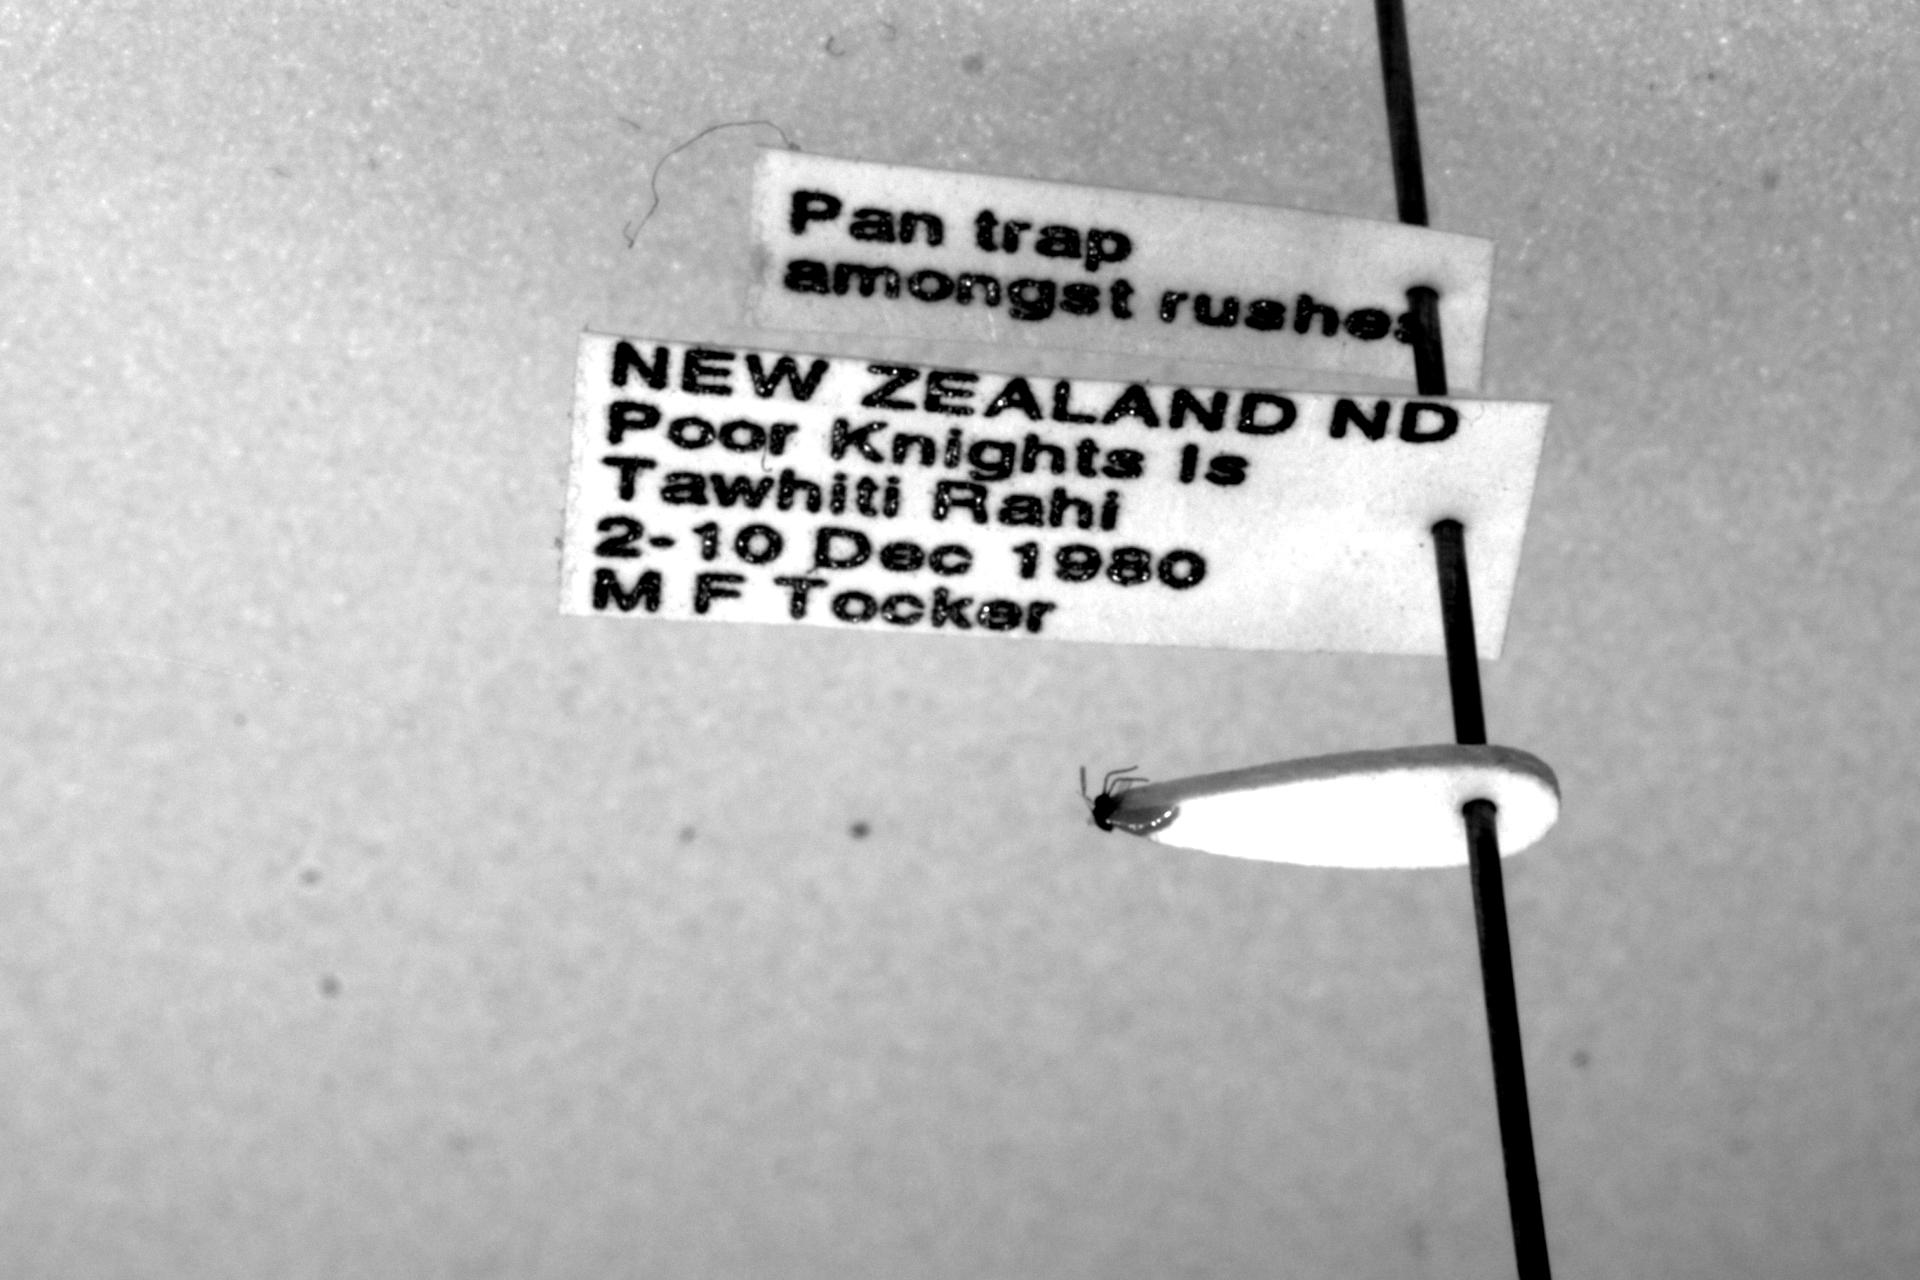typed_label: (563, 334, 1549, 656), (746, 146, 1496, 390)
